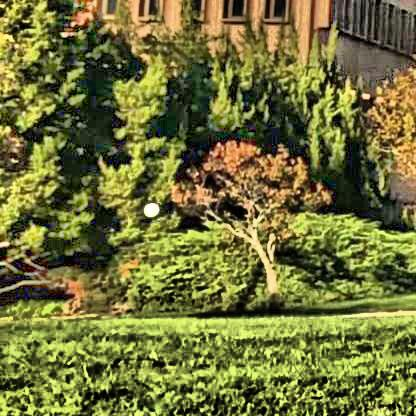golfball: (139, 198, 158, 215)
